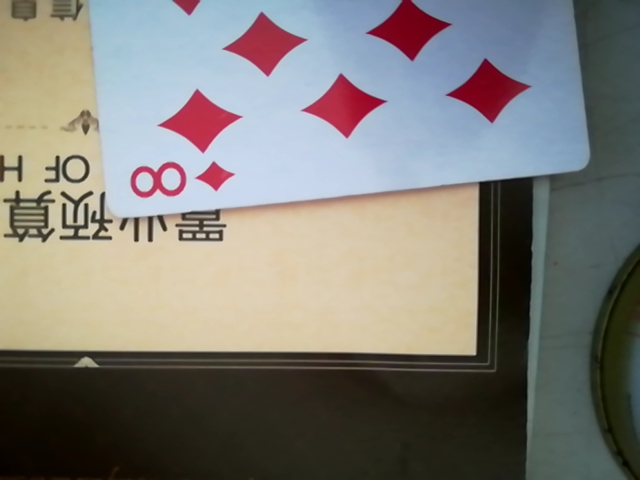fk 8: (76, 1, 586, 221)
